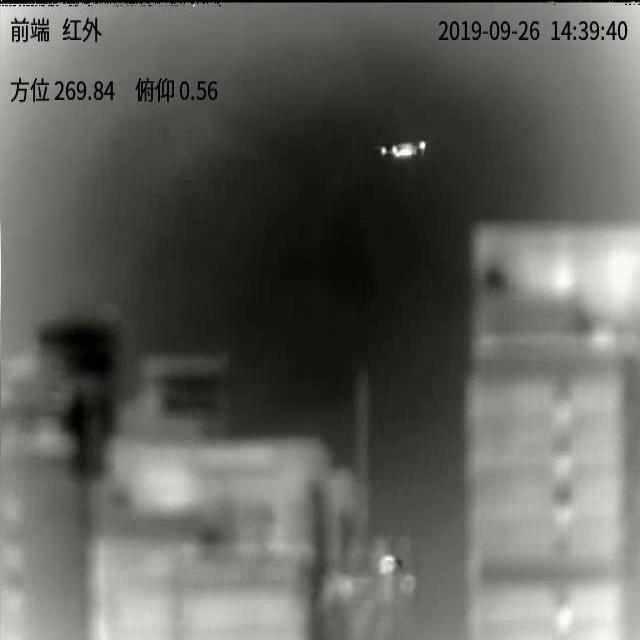drone: (380, 140, 426, 158)
